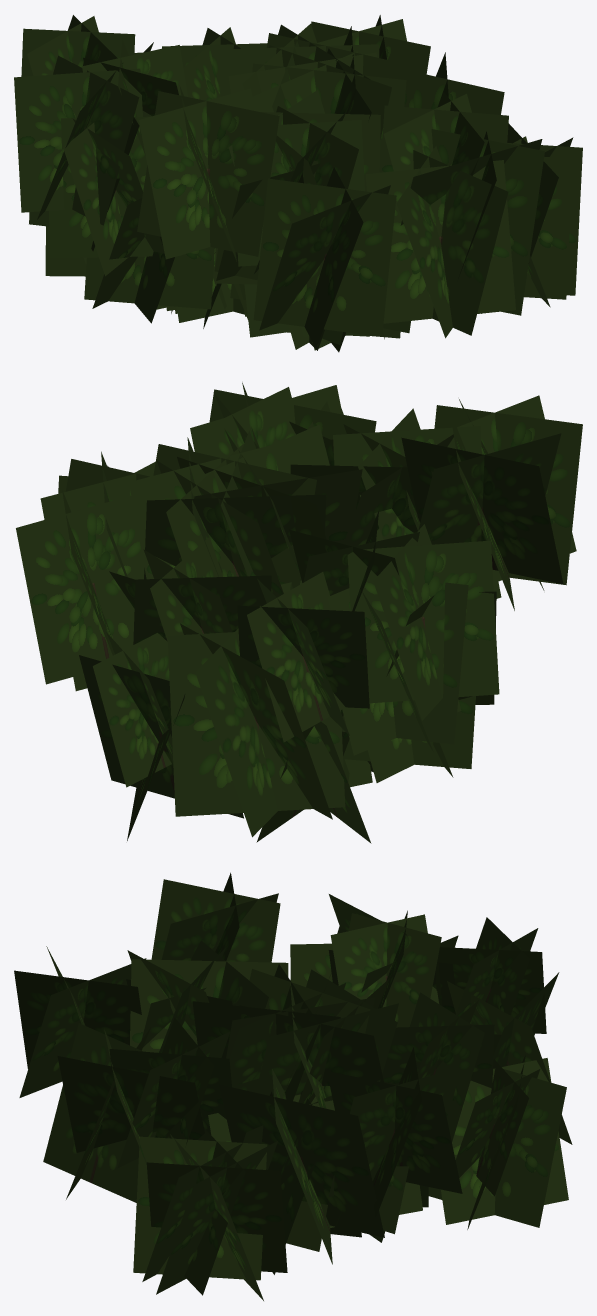
The model's file is SM_Art_Veg_Mangrove_0_LeavesDark.gltf.
3 renders of one model, top to bottom at view 1: azimuth 30°, elevation 25°; view 2: azimuth 150°, elevation 25°; view 3: azimuth 270°, elevation 25°, orthographic. The views are drawn at different scales.
Visible parts, largest first — view 1: SM_Art_Veg_Mangrove_0_LeavesDark; view 2: SM_Art_Veg_Mangrove_0_LeavesDark; view 3: SM_Art_Veg_Mangrove_0_LeavesDark.
Boxes of the visible parts, left/top/right/bottom form: SM_Art_Veg_Mangrove_0_LeavesDark: left=14, top=15, right=582, bottom=352; SM_Art_Veg_Mangrove_0_LeavesDark: left=16, top=382, right=582, bottom=843; SM_Art_Veg_Mangrove_0_LeavesDark: left=14, top=872, right=572, bottom=1300.
Bounding box in the file's own units: 5.46 × 2.9 × 6.
Materials: 1 (1 with a texture image).
